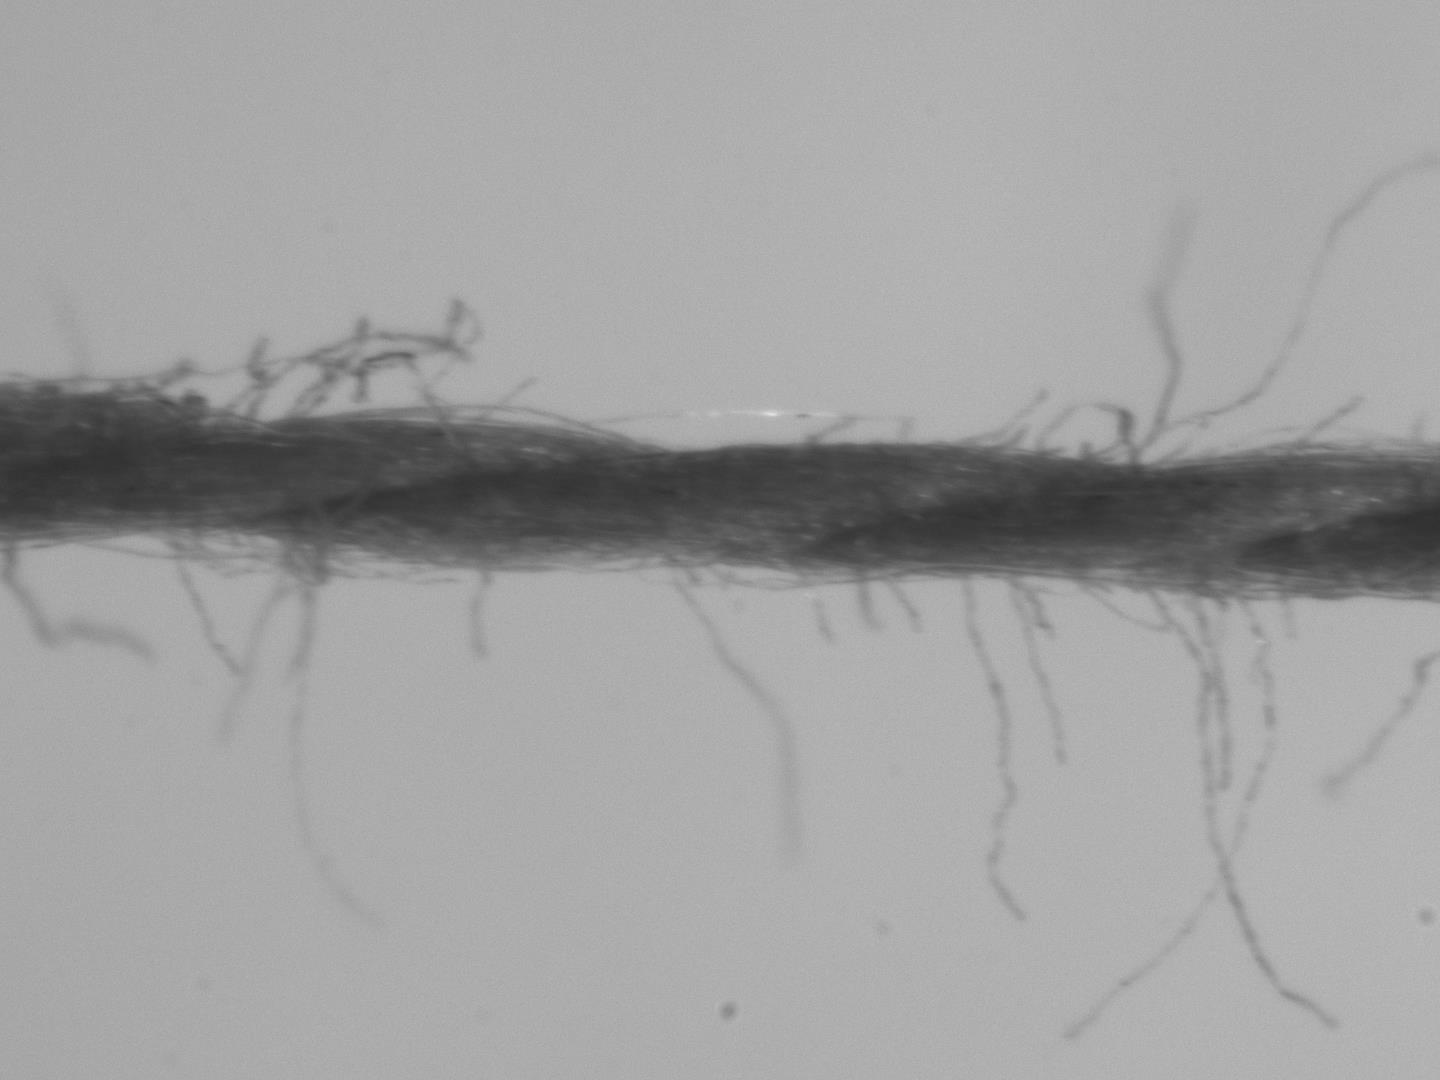loop_fiber: (1028, 399, 1133, 465)
protruding_fiber: (1060, 588, 1285, 1049), (663, 558, 803, 872), (951, 571, 1039, 928), (1130, 210, 1201, 466), (467, 562, 499, 667)
